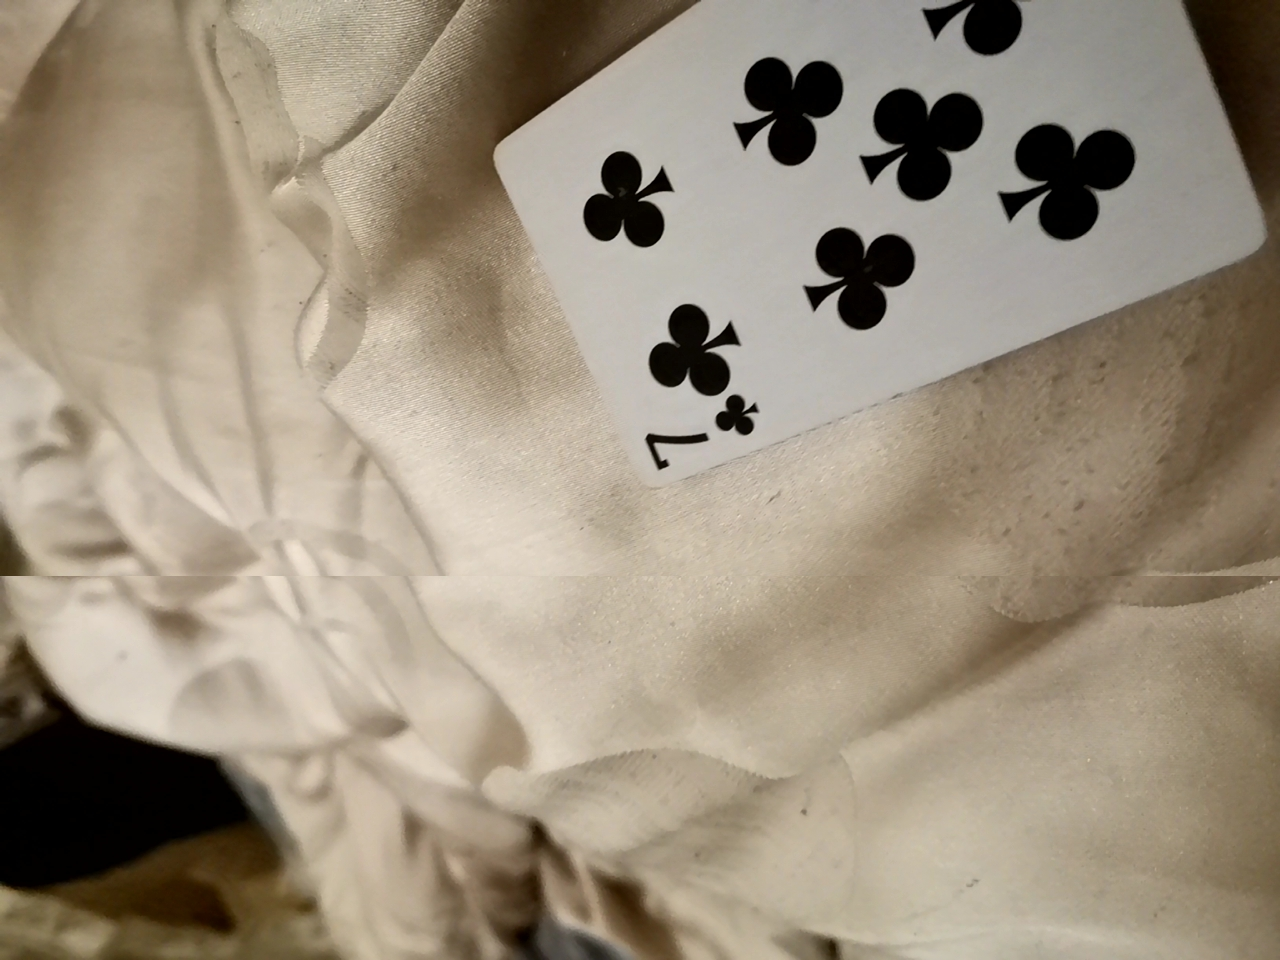mh 7: (465, 0, 1276, 477)
